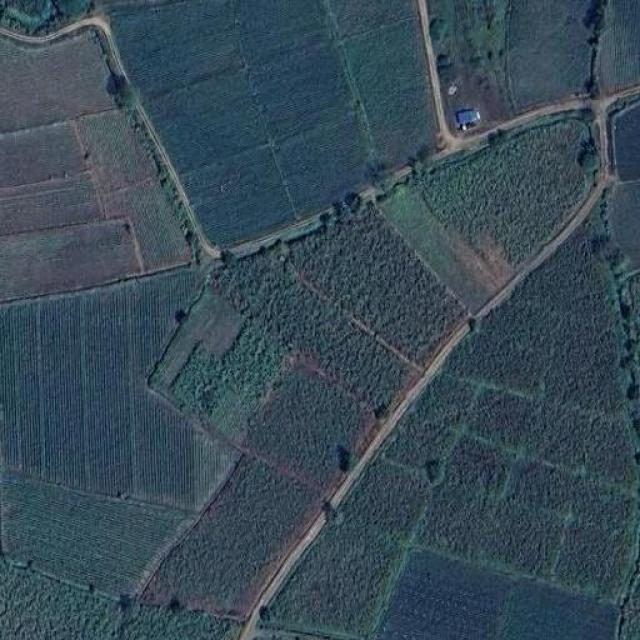land-Sx1C: (260, 209, 636, 639), (1, 268, 236, 509), (425, 119, 598, 284), (144, 458, 320, 618), (291, 209, 461, 361), (2, 479, 194, 598), (374, 549, 618, 639), (151, 289, 286, 443), (0, 559, 239, 640), (229, 2, 356, 138), (346, 22, 441, 173), (381, 191, 498, 313), (246, 374, 370, 488), (111, 0, 244, 101), (142, 71, 268, 175), (0, 31, 116, 132), (183, 145, 296, 248), (0, 221, 140, 299), (506, 0, 599, 112), (428, 0, 511, 121), (280, 118, 372, 215), (98, 178, 188, 269), (78, 110, 155, 192), (0, 174, 101, 234), (0, 122, 84, 187), (596, 0, 640, 94), (334, 0, 415, 39), (610, 181, 640, 269), (611, 101, 640, 181)
